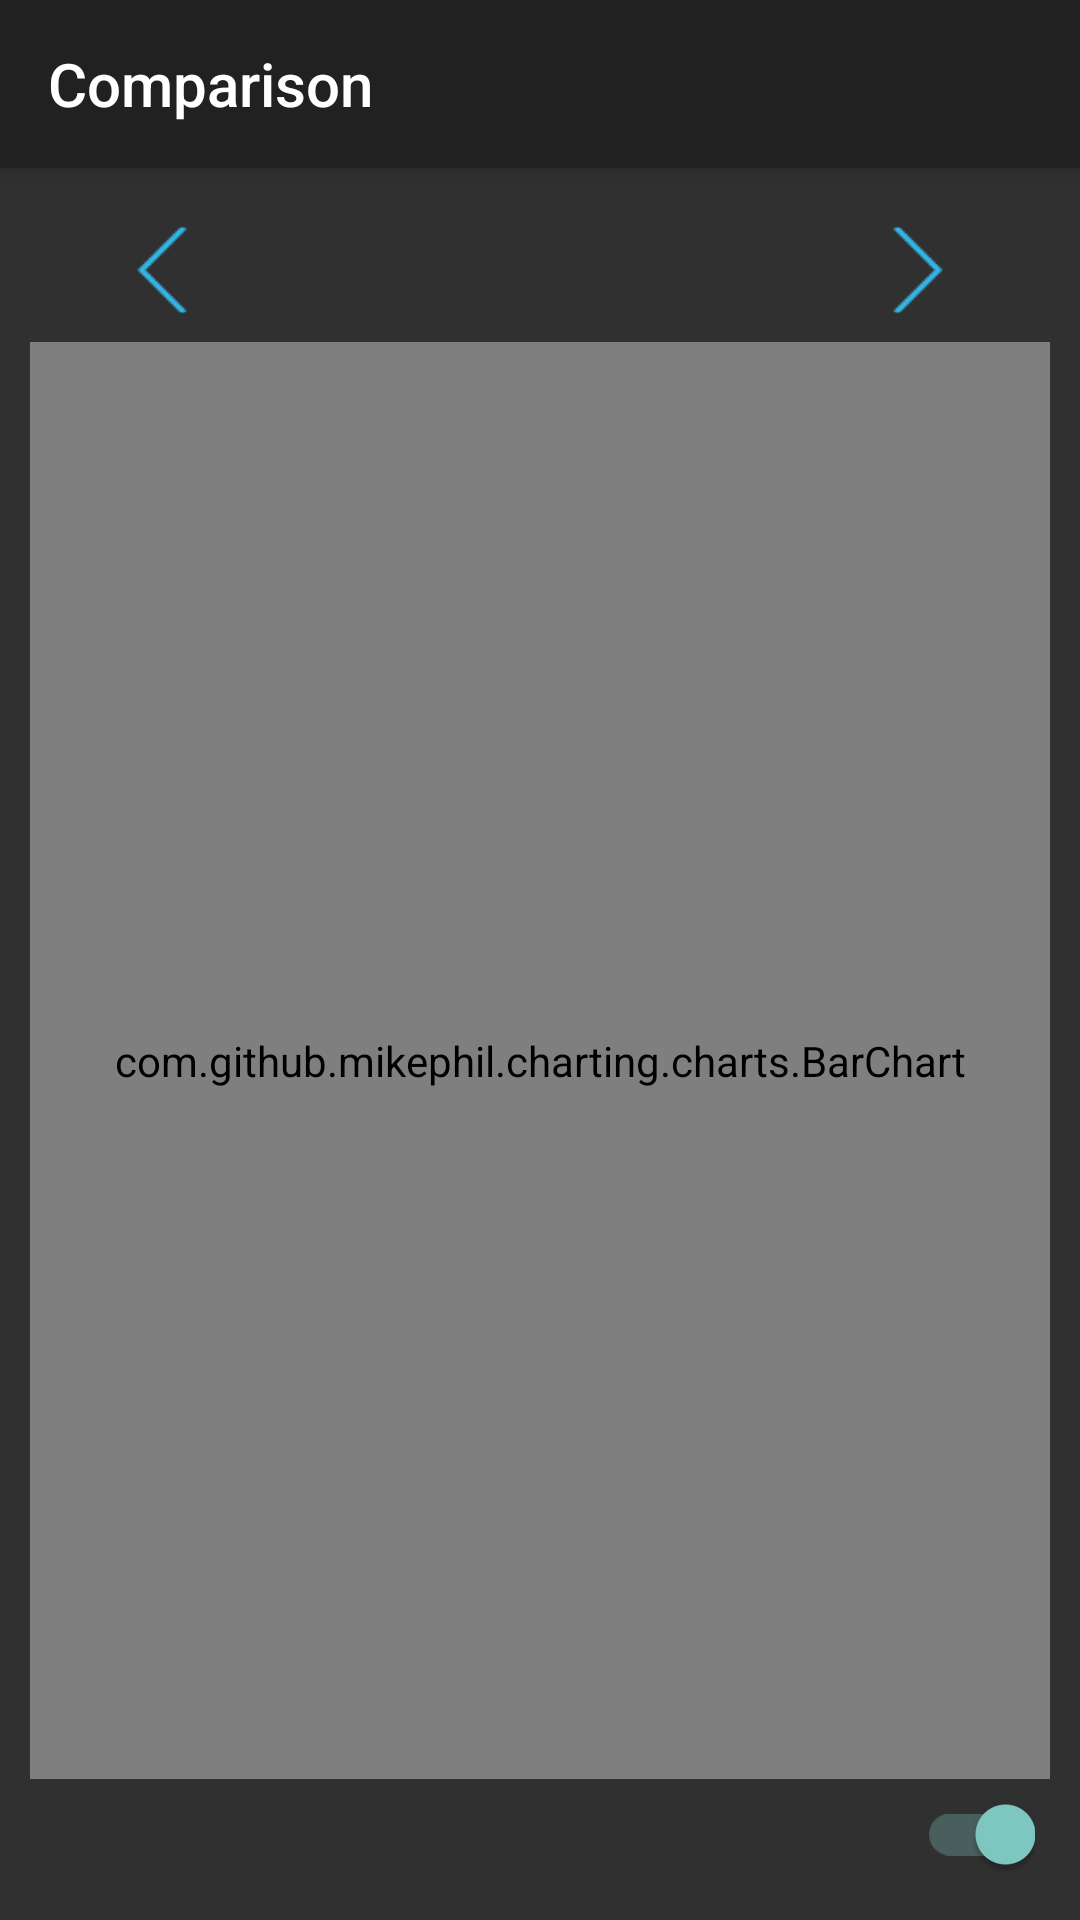

Point at icon controls on the screen. Image size 1080w x 1920h, points as [x,y].
arrow left: [162,270]
arrow right: [918,270]
